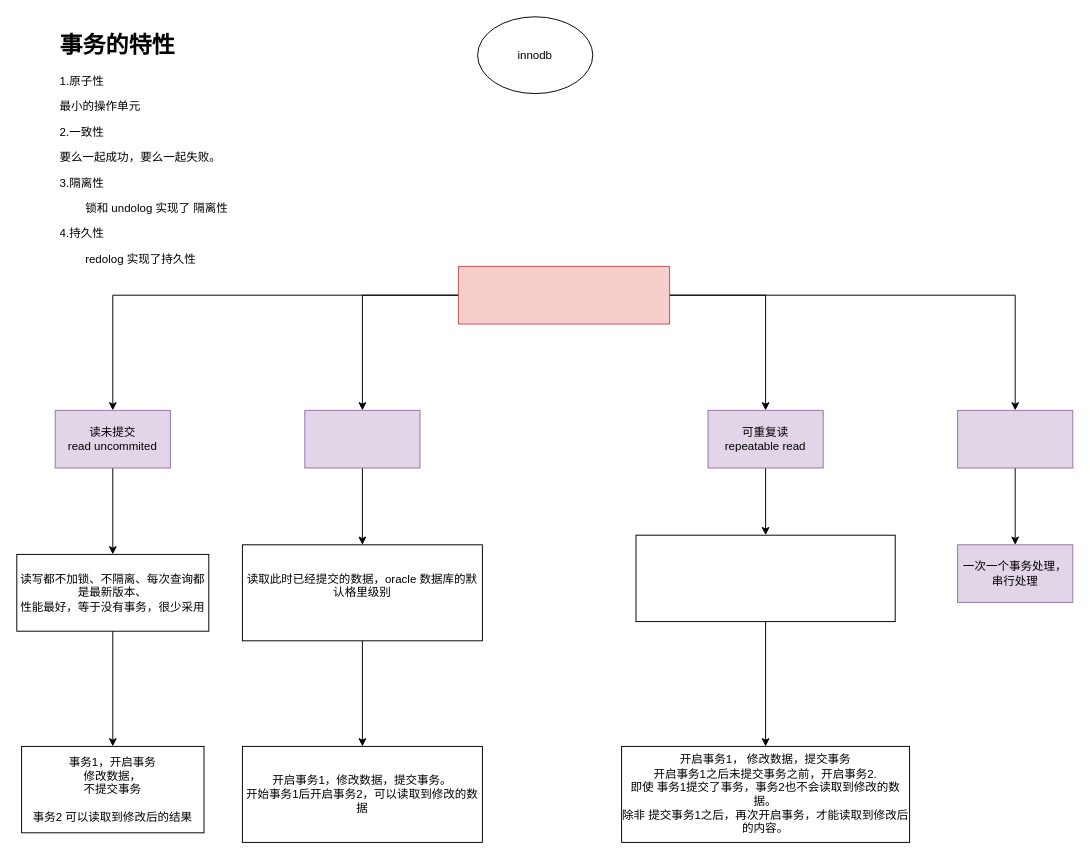
This 1090x859 diagram has some shape labels left out. Here are the shapes that lost their labels. From the top down, the centre of each, then its label:
At point 563,294: "隔离性".
At point 362,438: "读提交 read commited".
At point 1015,438: "串行化 seriailar".
At point 765,578: "读取的是本事务开始的状态。 即在当前事务中，不论读取多少次，都是一样的结果，同样的，写的时候加X锁。".
